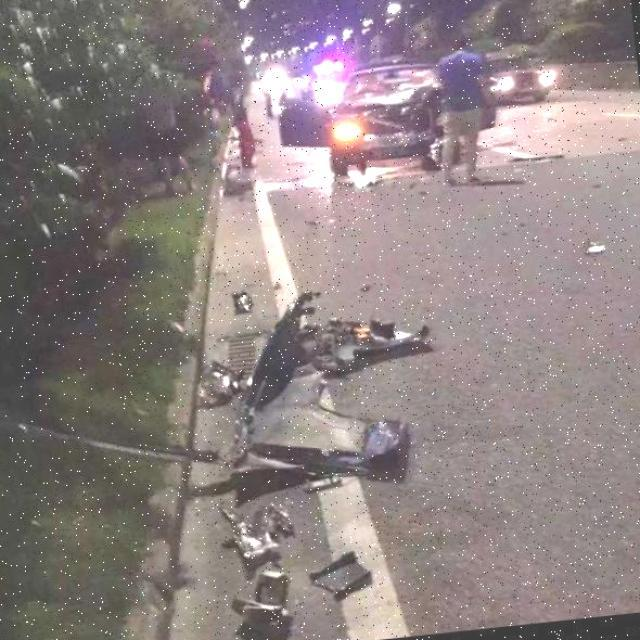accident: (283, 29, 494, 192)
